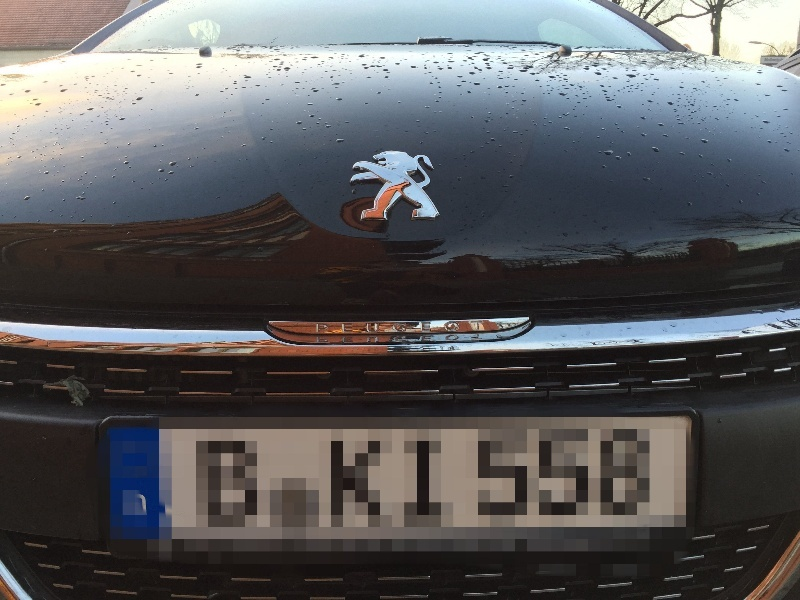text: (321, 320, 336, 334), (337, 320, 352, 334), (353, 320, 368, 334), (369, 320, 384, 334), (385, 320, 400, 334), (401, 320, 416, 334), (417, 320, 432, 334), (433, 320, 448, 334), (449, 320, 464, 334), (465, 320, 480, 334), (321, 335, 336, 344), (337, 335, 352, 344), (353, 335, 368, 344), (369, 335, 384, 344), (385, 335, 400, 344), (401, 335, 416, 344), (417, 335, 432, 344), (433, 335, 448, 344), (449, 335, 464, 344), (465, 335, 479, 344), (401, 345, 416, 353), (417, 345, 432, 353), (433, 345, 448, 353), (387, 345, 400, 353), (449, 345, 456, 353), (317, 320, 320, 334), (481, 320, 484, 334), (317, 335, 320, 344)
